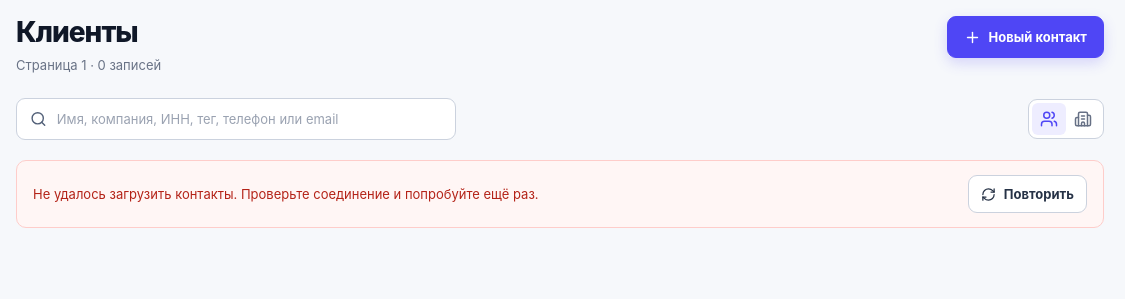
ContactsPage pagination › shows no invented assignee for remote contacts and retries a failed request
Check: the message shows "Проверьте соединение", box [234, 186, 539, 202]
Click the button "Повторить" at x=1027, y=194, box [968, 175, 1087, 213]
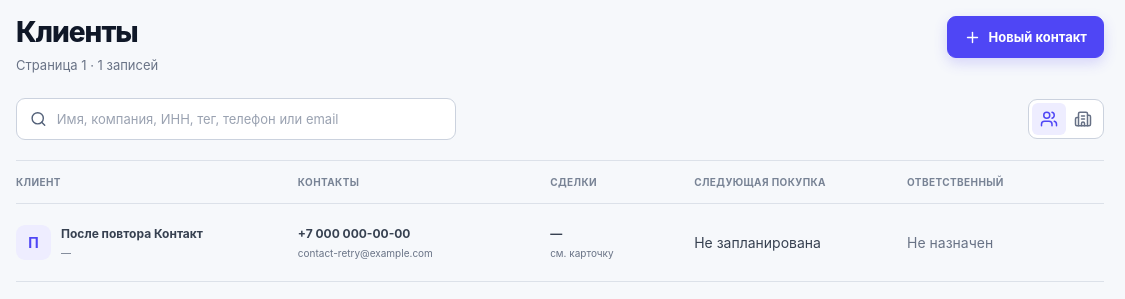
Check: the text "После повтора Контакт" is shown, box [61, 226, 203, 242]
Check: the text "Не назначен" is shown, box [907, 234, 993, 251]
